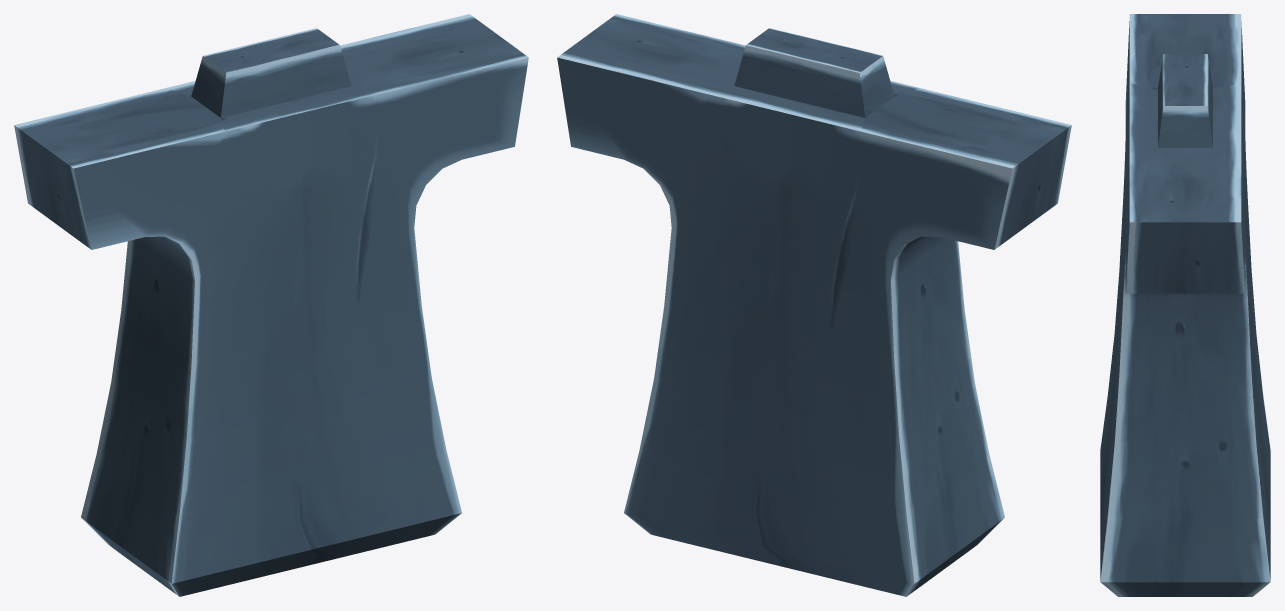
The model's file is SM_PROP_gravestone_v11_01.fbx.
3 views of the same model, side by side, from view 1: azimuth 30°, elevation 25°; view 2: azimuth 150°, elevation 25°; view 3: azimuth 270°, elevation 25° (orthographic). The views are drawn at different scales.
Parts seen in each view (by area): view 1: SM_PROP_gravestone_v11_01; view 2: SM_PROP_gravestone_v11_01; view 3: SM_PROP_gravestone_v11_01.
Boxes of the visible parts, x1=… form: SM_PROP_gravestone_v11_01: x1=14, y1=14, x2=528, y2=596; SM_PROP_gravestone_v11_01: x1=557, y1=14, x2=1071, y2=596; SM_PROP_gravestone_v11_01: x1=1100, y1=14, x2=1270, y2=596.
Bounding box in the file's own units: 139 × 142 × 47.89.
